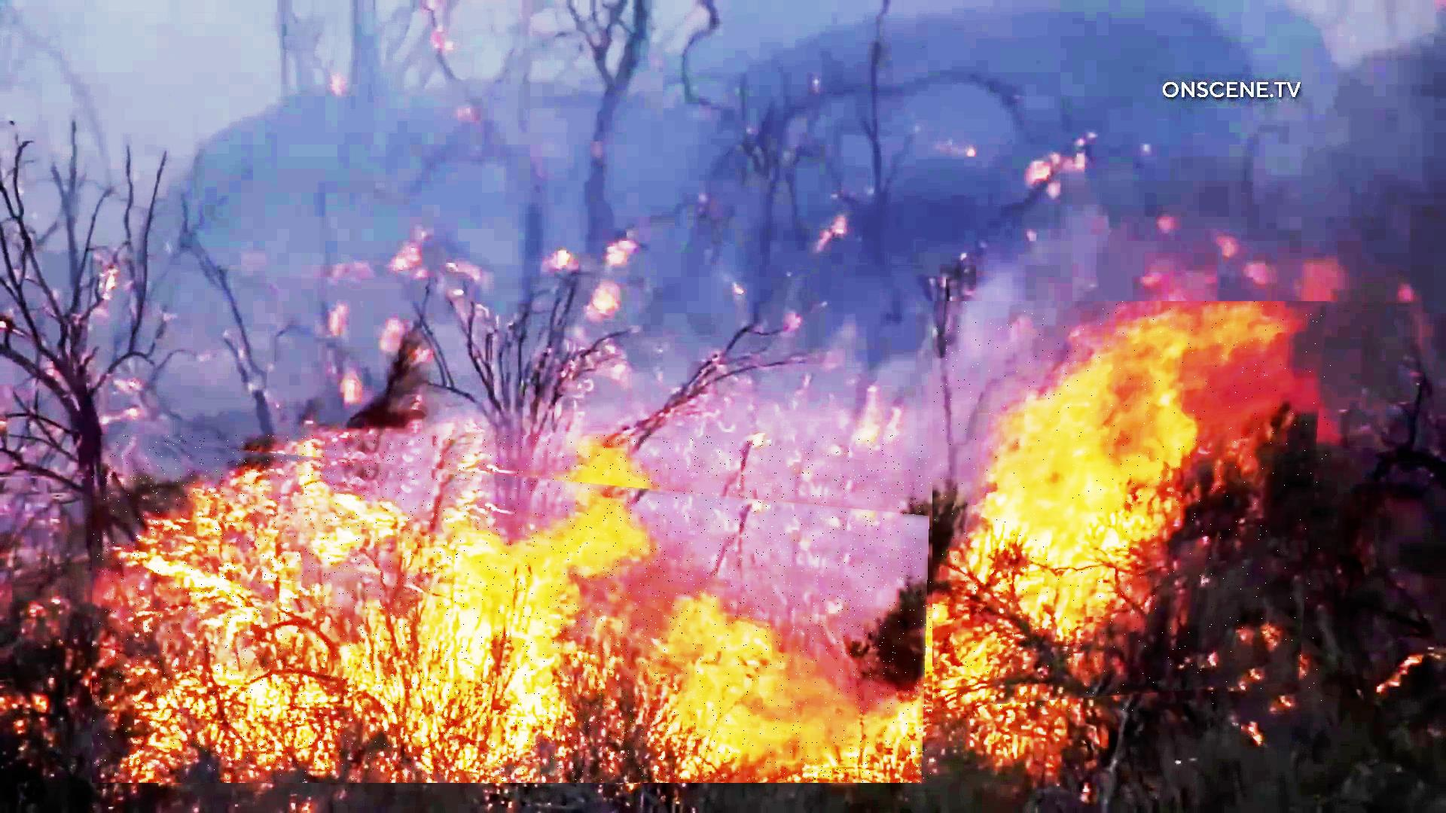fire: (93, 435, 932, 783), (933, 302, 1331, 714)
